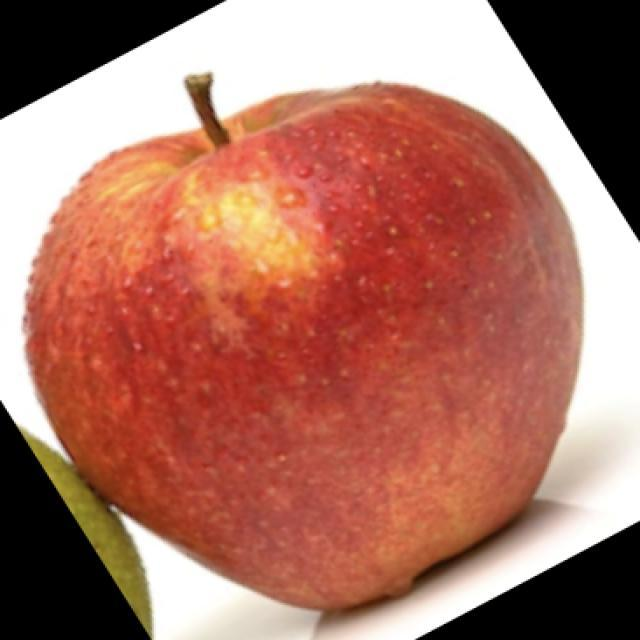Fresh Apple: (67, 90, 588, 592)
